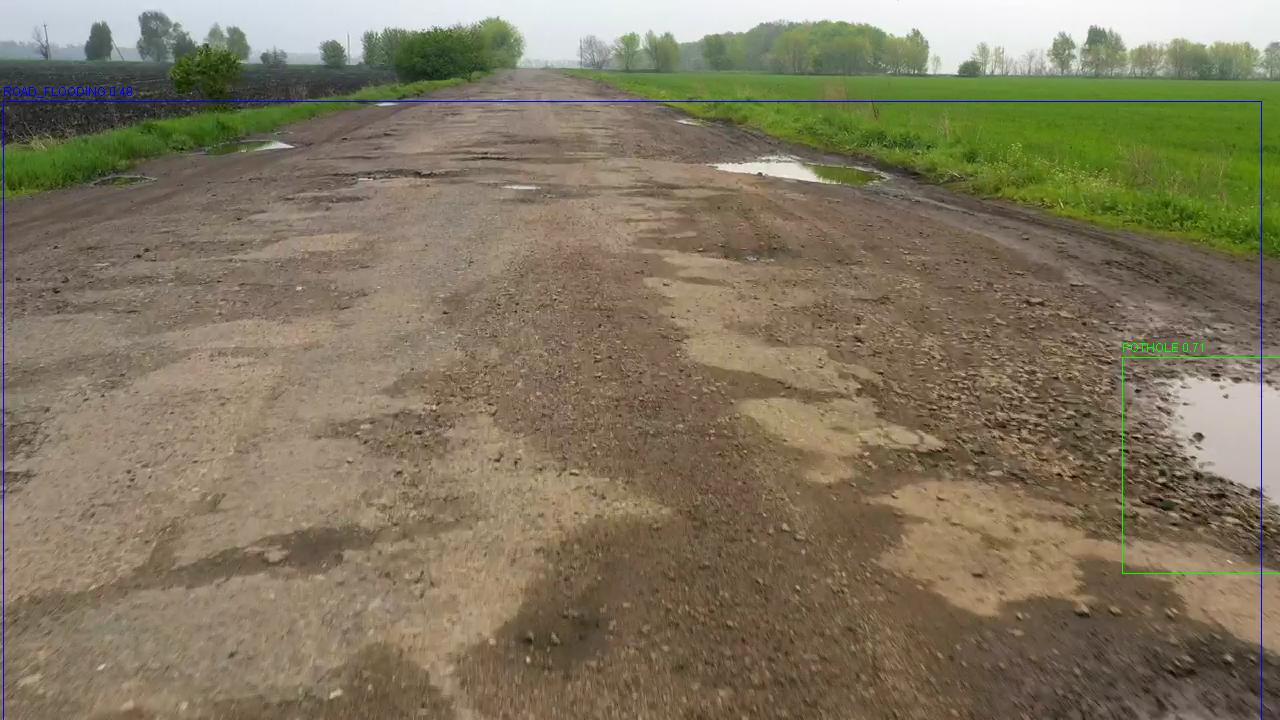ROAD_FLOODING: (128, 324, 1254, 655)
